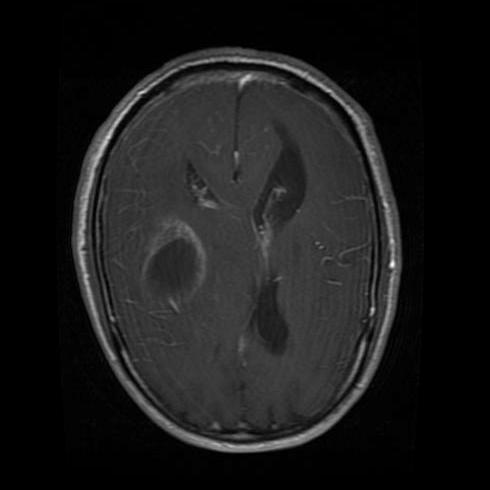Tumour-Glioma: (123, 216, 218, 316)
